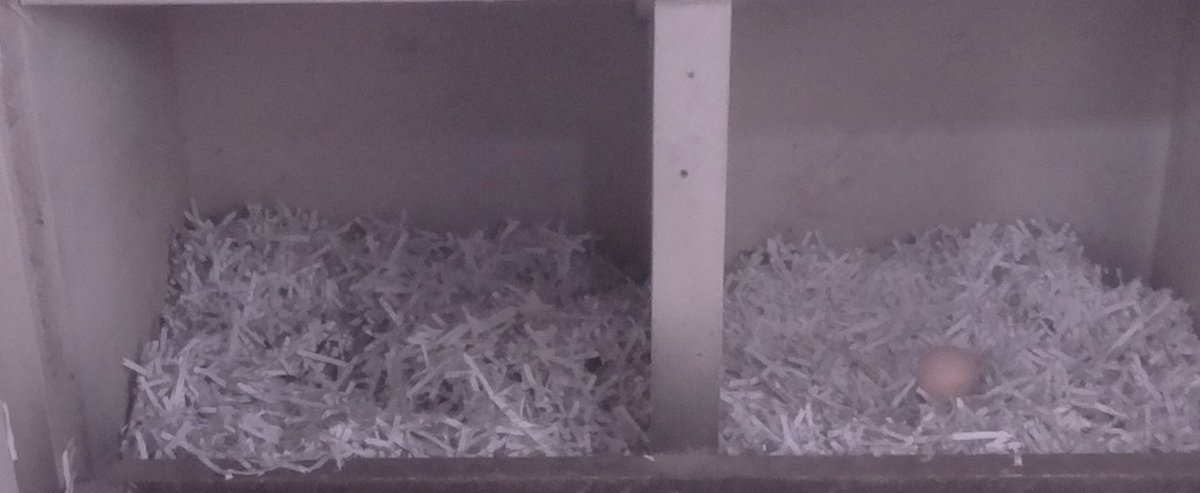egg: (913, 341, 986, 404)
